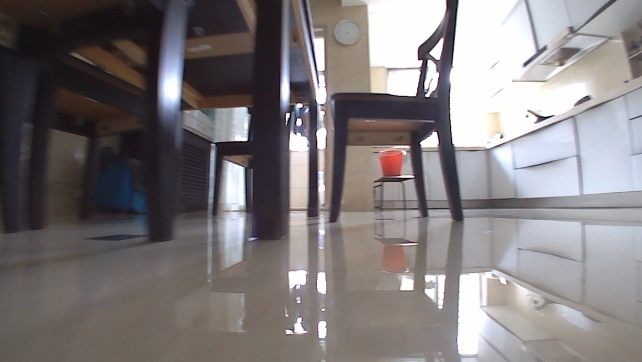cupboard: (373, 75, 641, 212)
dining_table1: (0, 0, 467, 242)
